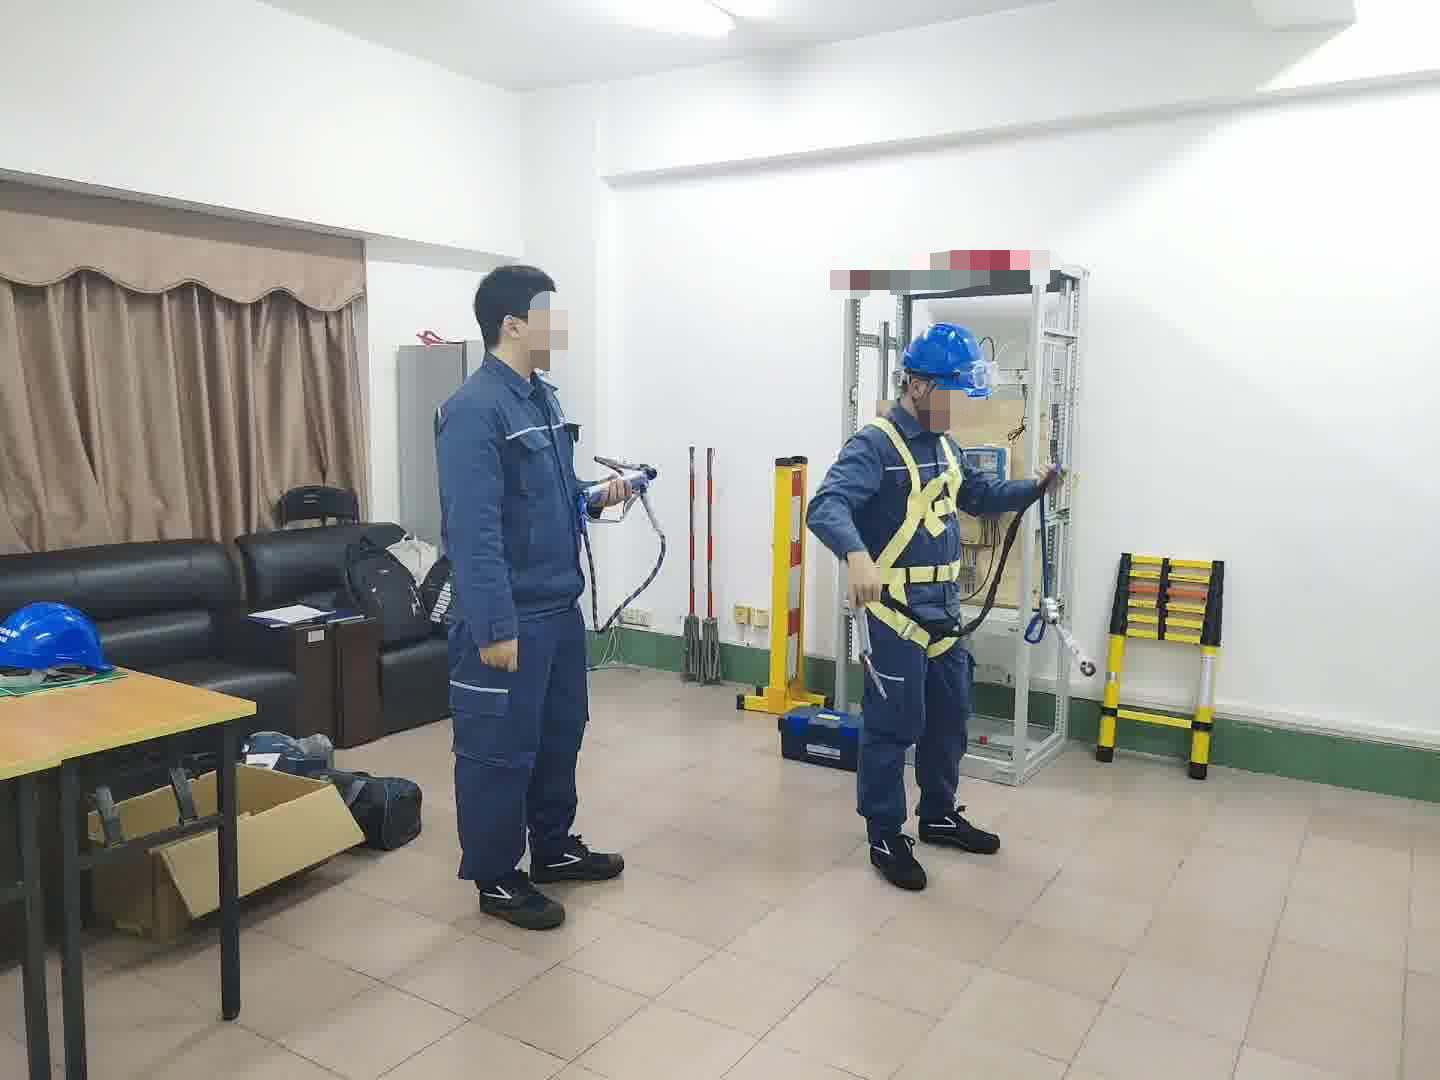halt: (903, 322, 988, 425)
inear: (905, 373, 940, 416)
noear: (498, 314, 539, 356)
unhalt: (473, 265, 574, 370)
